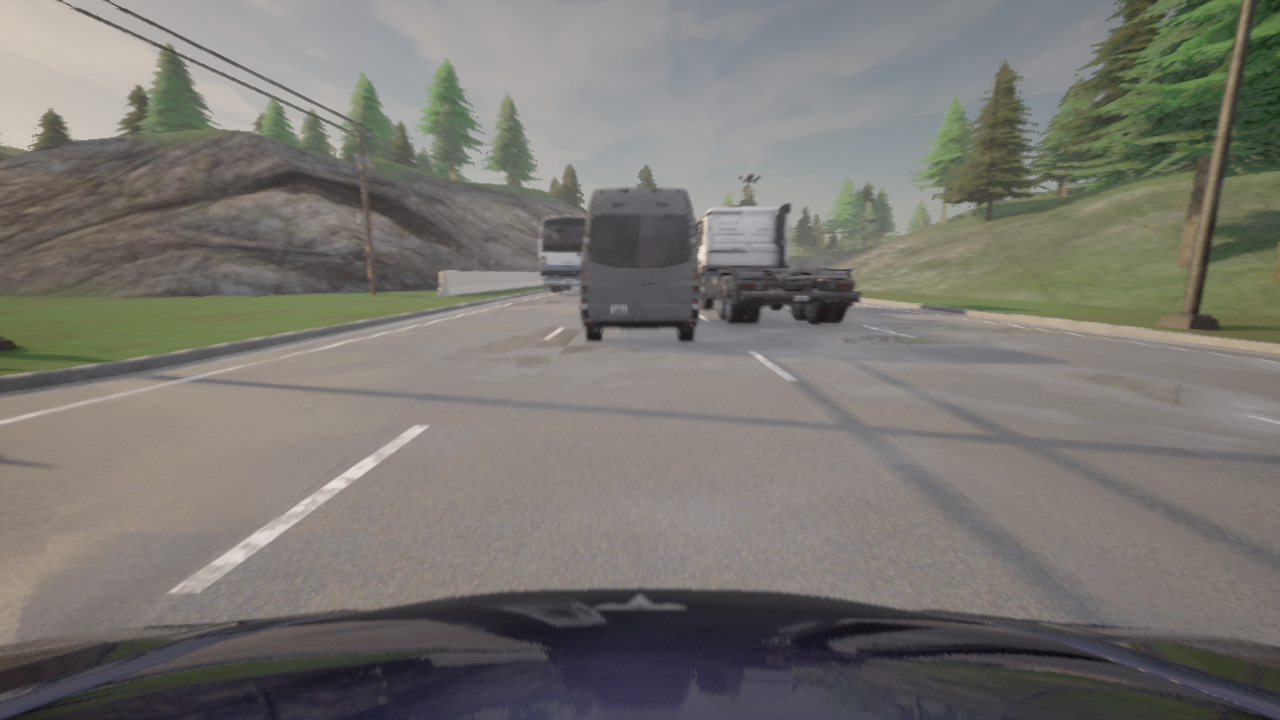cyclist: (0, 588, 1279, 719), (695, 202, 860, 323), (580, 188, 699, 340), (539, 215, 585, 291)
